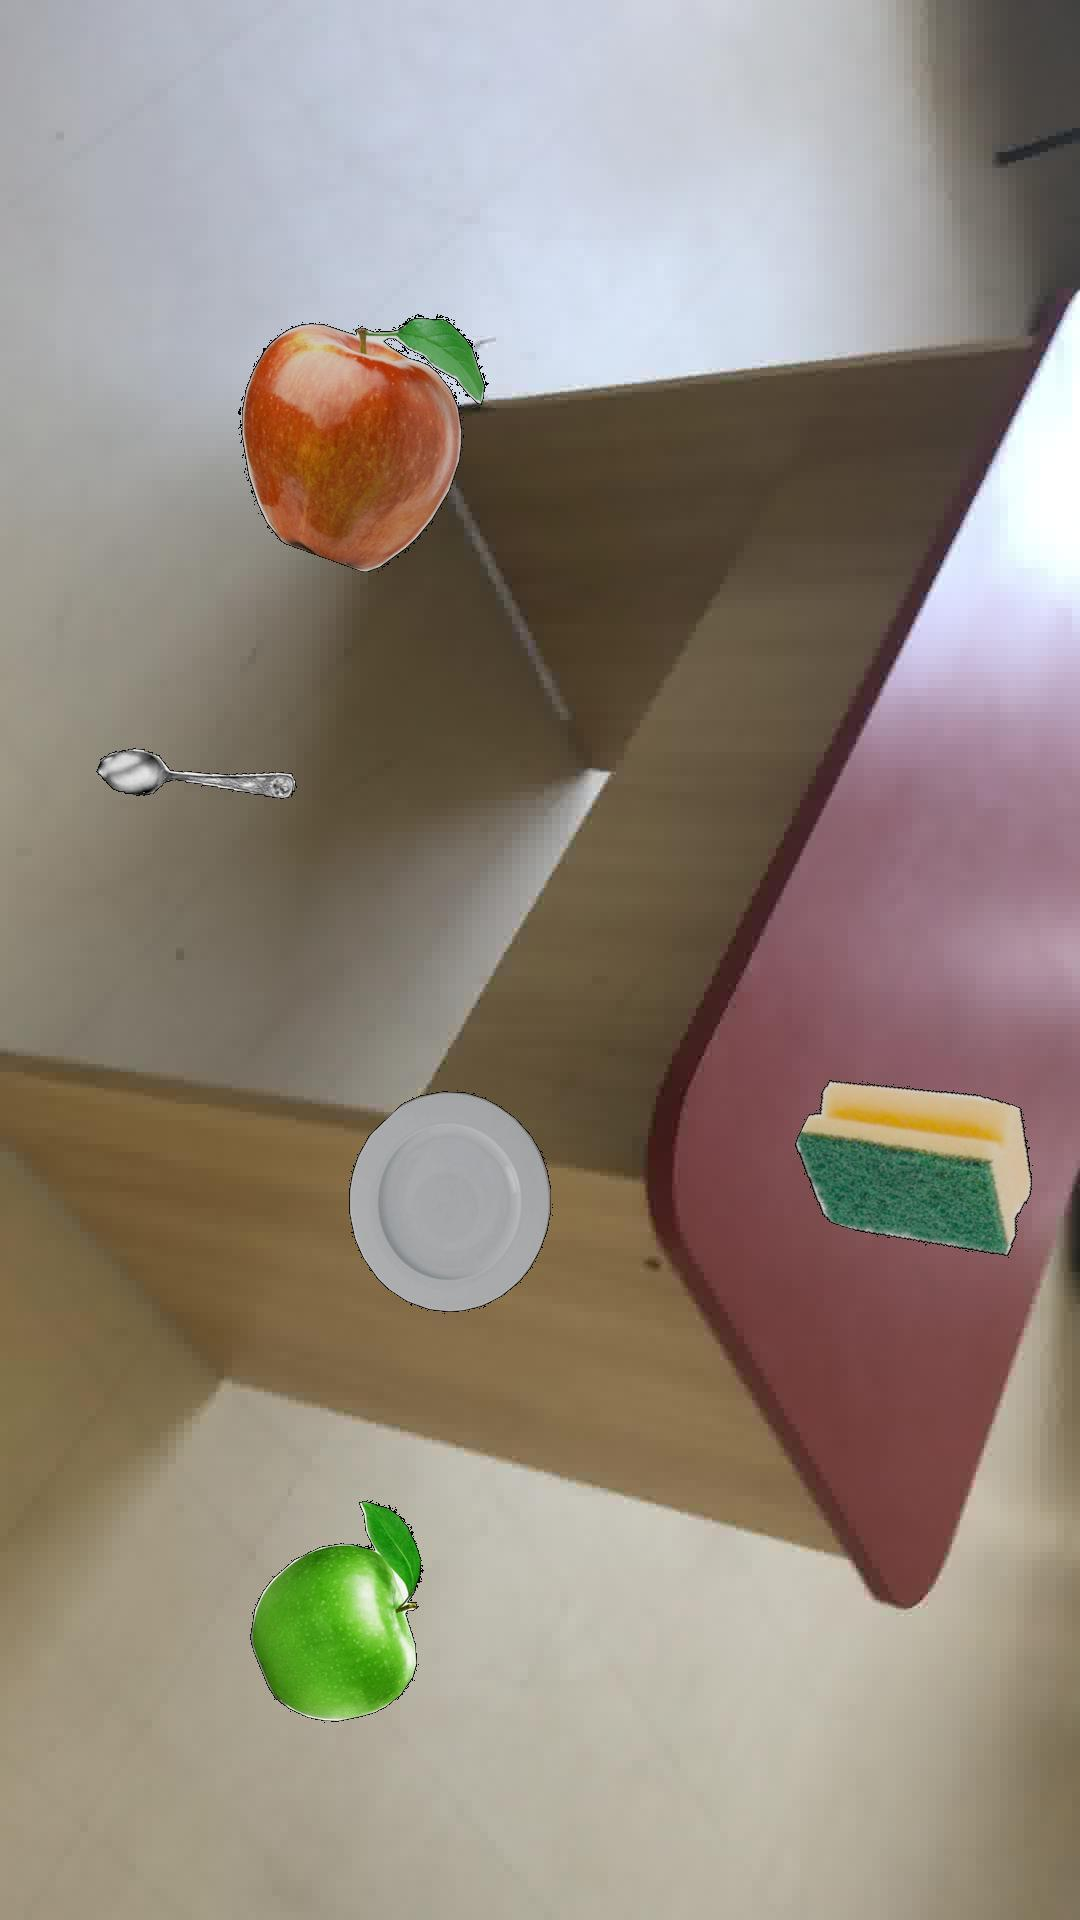apple: (237, 313, 488, 571)
green apple: (248, 1499, 422, 1721)
plate: (348, 1089, 550, 1311)
sponge: (794, 1079, 1030, 1254)
spoon: (95, 746, 294, 798)
